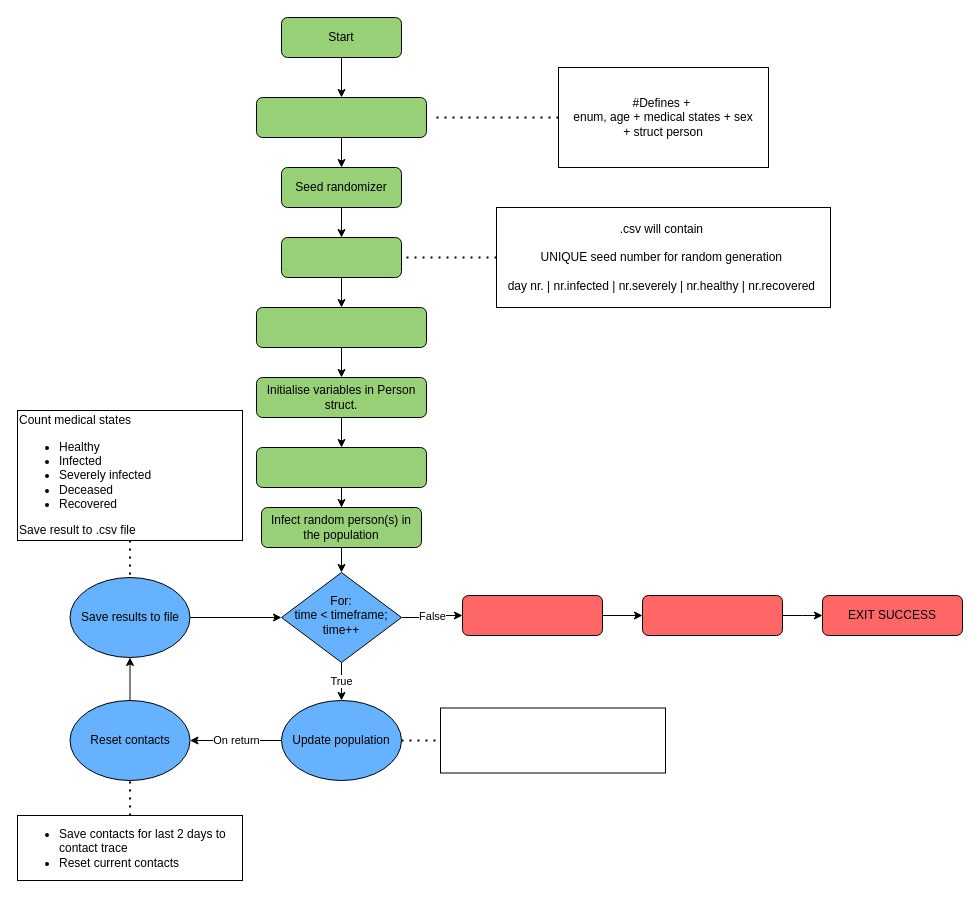
The diagram is 980 pixels wide and 899 high, and some of its shapes have lost their labels. Here are the shapes that lost their labels. From the top down, the centre of each, then its label:
point 341,117: Declaration of variables
point 341,257: Create datafile (.csv)
point 341,327: Allocate space for population
point 341,467: Set sex and age for persons in population
point 532,615: Close file & output datafile (.csv)
point 712,615: Free allocated space for population
point 553,740: This function's code is displayed in a seperate flowchart.
